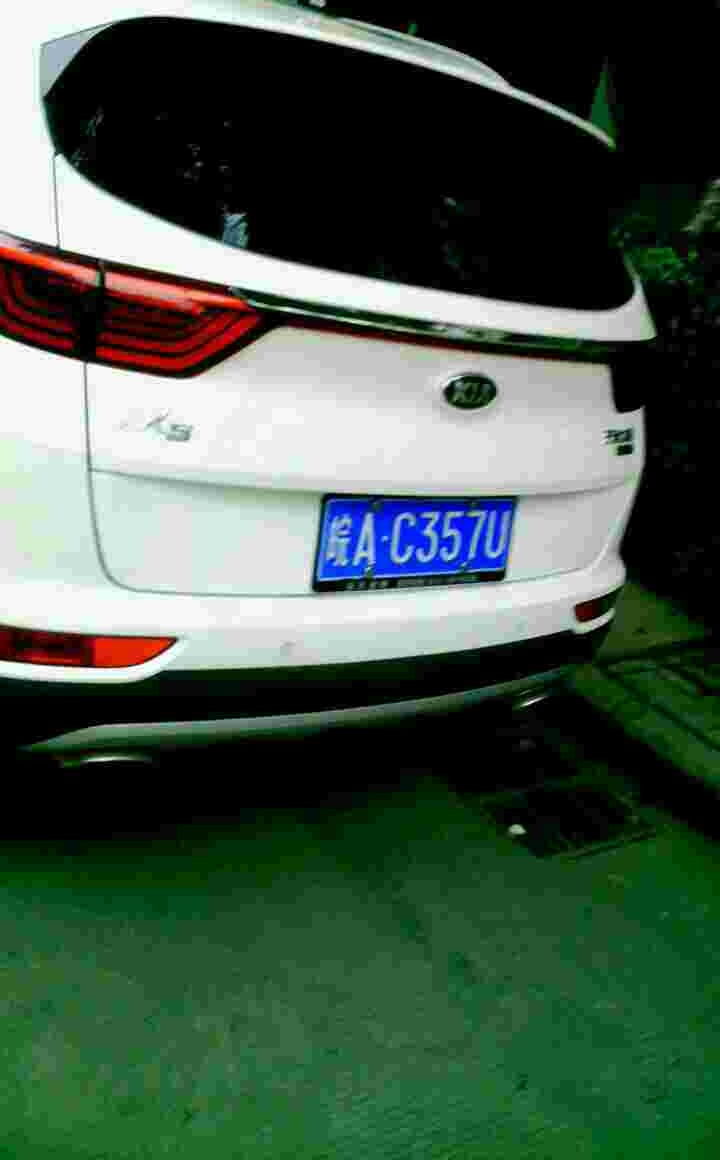plate: (323, 492, 524, 582)
